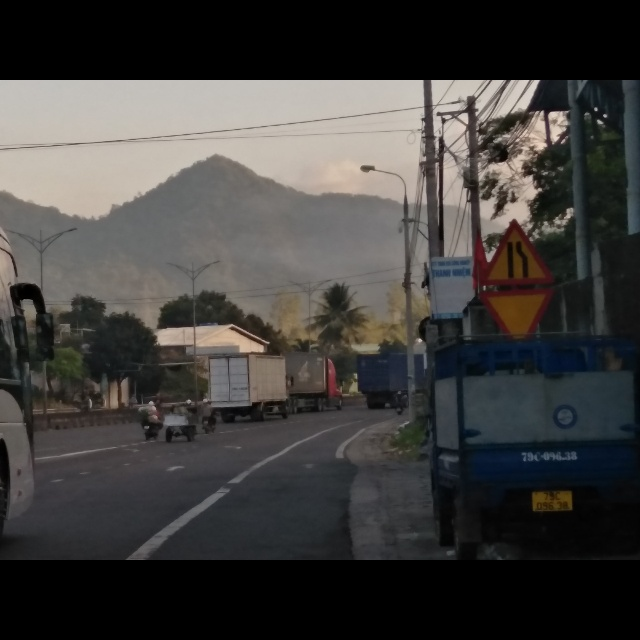Giao nhau với đường ưu tiên: (479, 289, 555, 339)
Đường bị hẹp bên phải: (481, 219, 556, 288)
